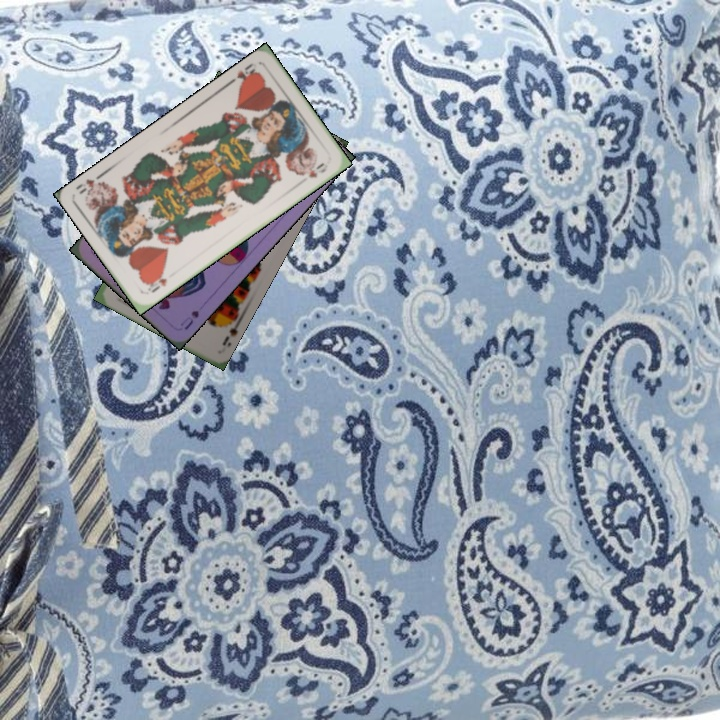HO: (232, 59, 262, 89), (143, 269, 169, 295)
S9: (218, 313, 244, 348)
SU: (176, 306, 202, 333)
